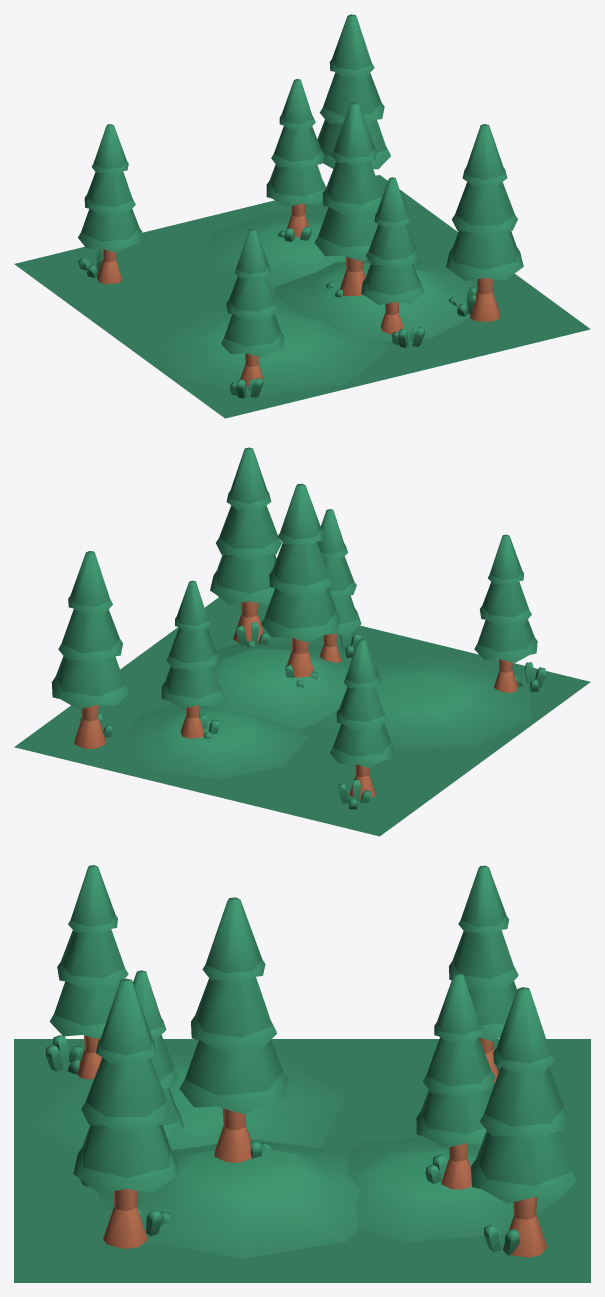
The model's file is decoration-forest.glb.
3 views of the same model, one above another, from view 1: azimuth 30°, elevation 25°; view 2: azimuth 150°, elevation 25°; view 3: azimuth 270°, elevation 25° (orthographic). The views are drawn at different scales.
Visible parts, largest first — view 1: decoration-forest; view 2: decoration-forest; view 3: decoration-forest.
Part boxes in pixels (x1,y1,x2,y2): decoration-forest: (14,14,590,418); decoration-forest: (14,447,590,836); decoration-forest: (14,865,590,1282).
Bounding box in the file's own units: 10 × 5.33 × 10.
Materials: 1 (1 with a texture image).
